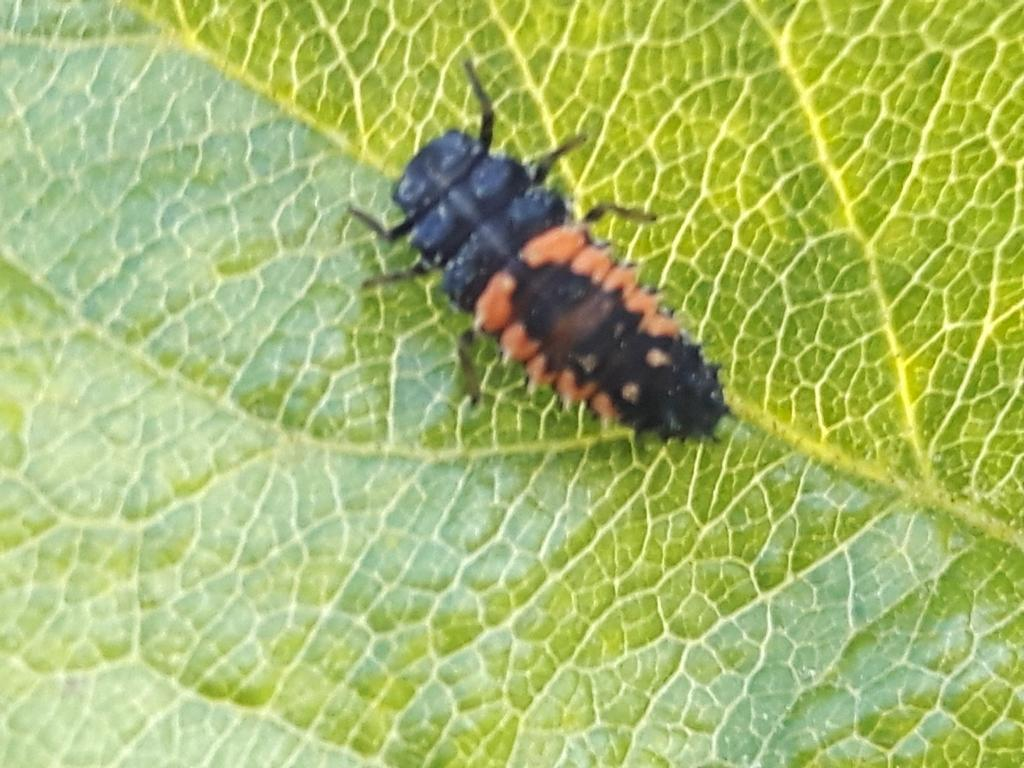ladybug: (345, 57, 739, 455)
